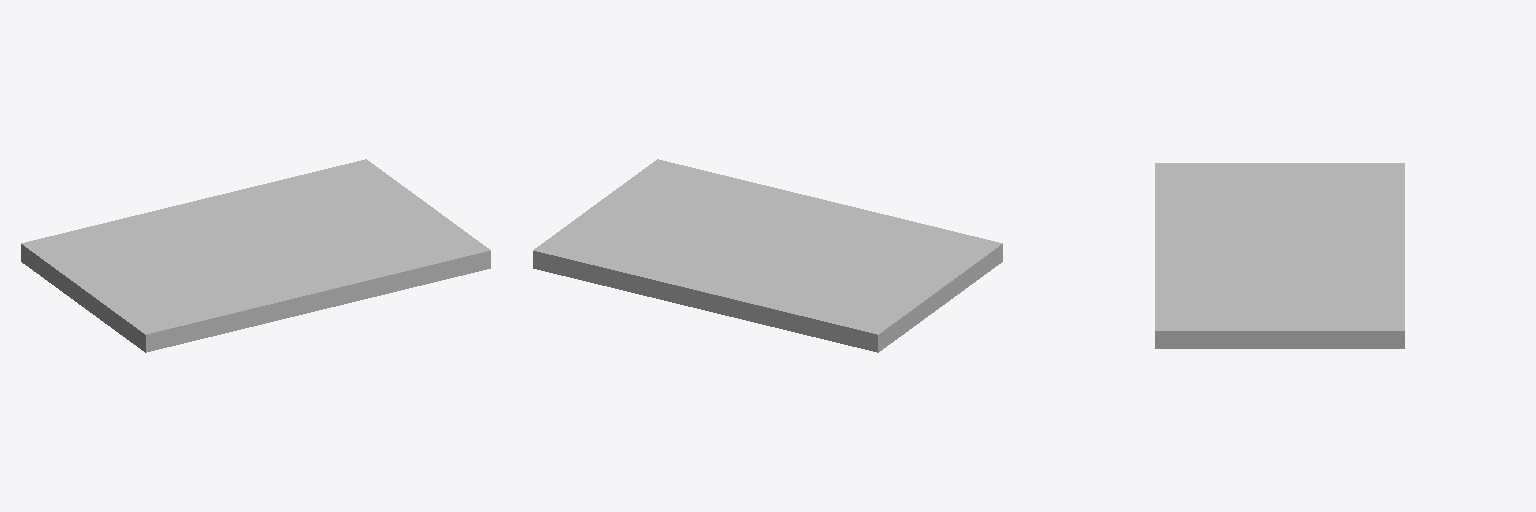
File: notebook.obj
3 renders of one model, left to right at view 1: azimuth 30°, elevation 25°; view 2: azimuth 150°, elevation 25°; view 3: azimuth 270°, elevation 25°, orthographic.
Visible parts, largest first — view 1: notebook; view 2: notebook; view 3: notebook.
Part boxes in pixels (x1,y1,x2,y2): notebook: (21,159,490,352); notebook: (533,159,1002,352); notebook: (1155,163,1404,348).
Size of the model in its own units: 40 by 2 by 25.